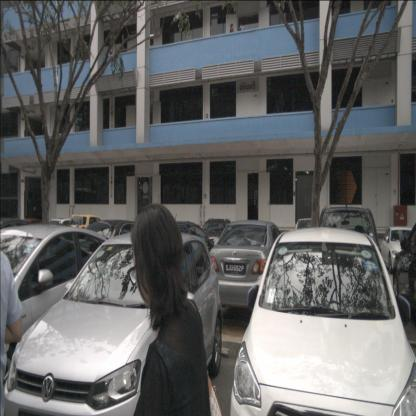human-pedestrian-adult: (129, 203, 223, 416), (0, 233, 24, 415)
vehicle-car: (4, 232, 223, 416), (230, 227, 416, 415), (0, 222, 120, 406), (207, 220, 281, 316), (316, 207, 382, 305), (134, 221, 214, 291), (75, 220, 146, 269), (392, 222, 416, 310), (380, 226, 415, 276), (199, 219, 231, 258), (69, 214, 108, 246), (296, 218, 324, 260)
